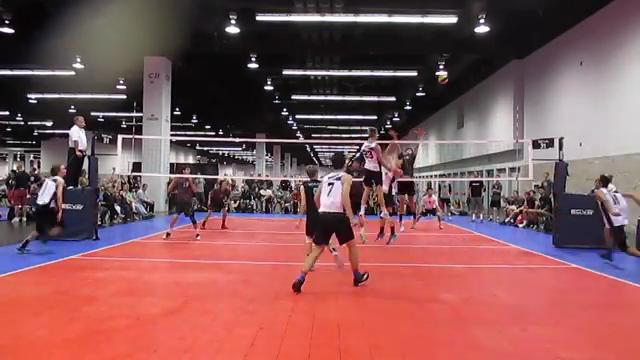Block: (385, 128, 425, 233)
Player: (292, 152, 368, 292), (17, 165, 65, 252), (595, 174, 639, 260), (359, 128, 393, 225), (163, 167, 200, 239), (300, 165, 320, 257), (201, 179, 230, 229), (417, 187, 442, 229), (346, 155, 363, 213), (376, 216, 396, 244)
ball: (438, 74, 449, 86)
